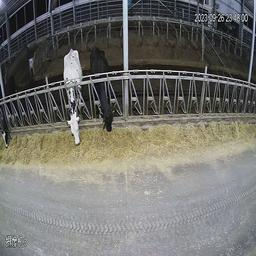cow: (90, 46, 116, 135), (63, 42, 82, 150), (1, 67, 26, 149)
